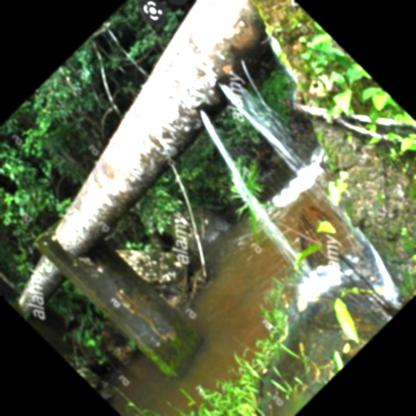burst: (188, 74, 263, 148)
